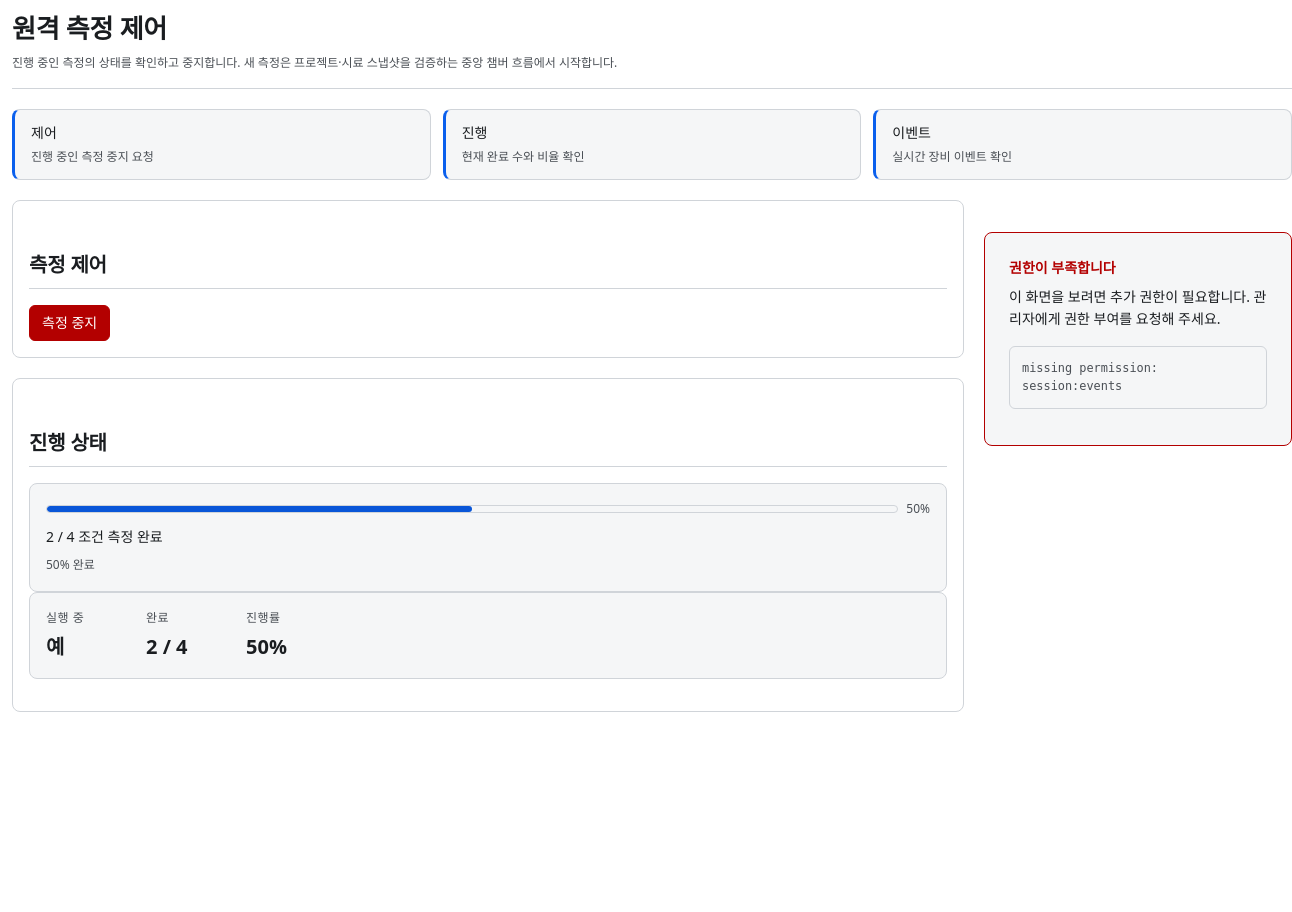
Scenario: ControlRoute stop dispatch + outcomes › degrades to unreachable when the agent Session API is offline during stop
Click the button with test id "control-stop" at (70, 323), box x1=29 y1=305 x2=110 y2=341
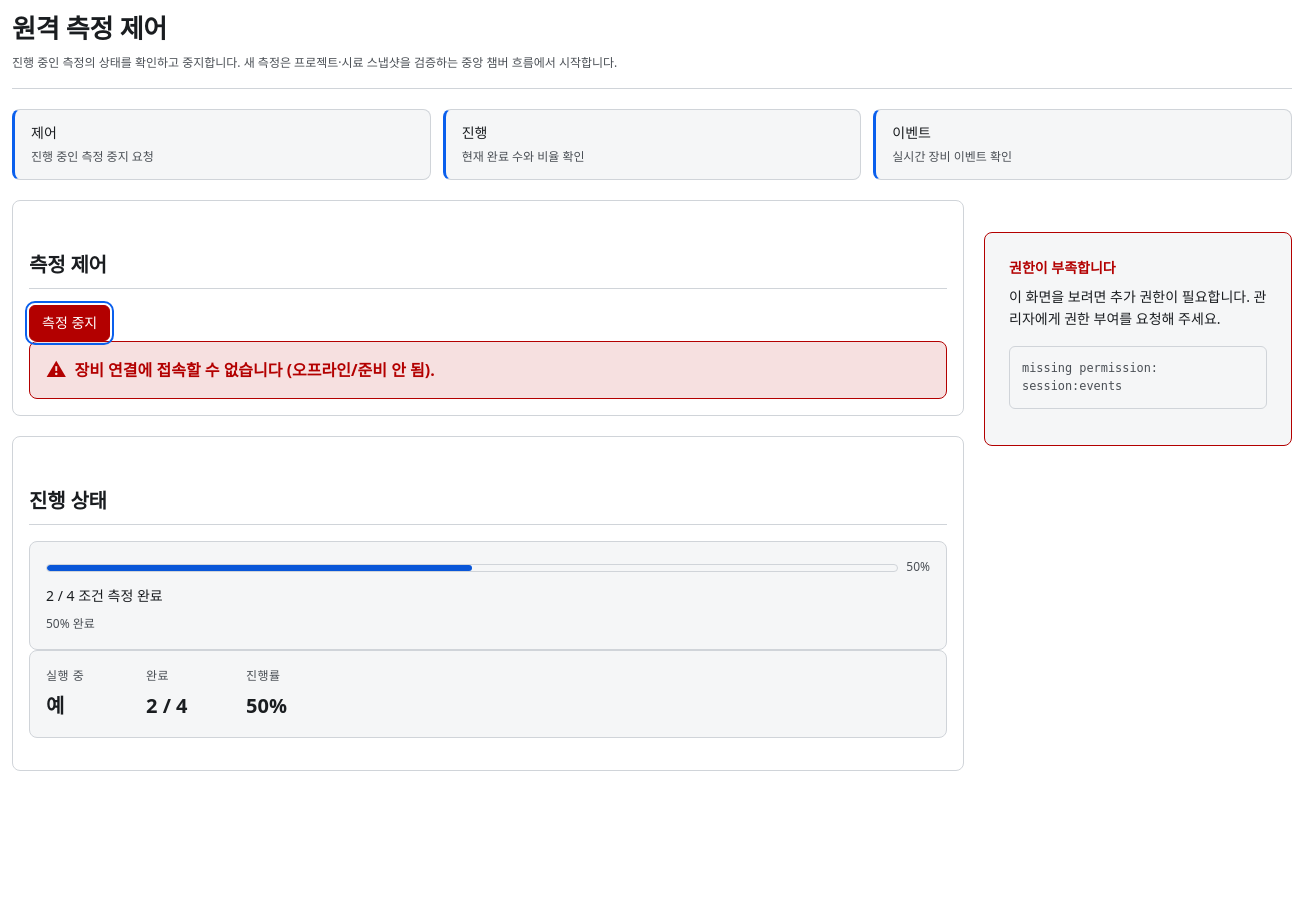
Check: the message "장비 연결에 접속할 수 없습니다 (오프라인/준비 안 됨)." is shown, box x1=29 y1=341 x2=947 y2=400
